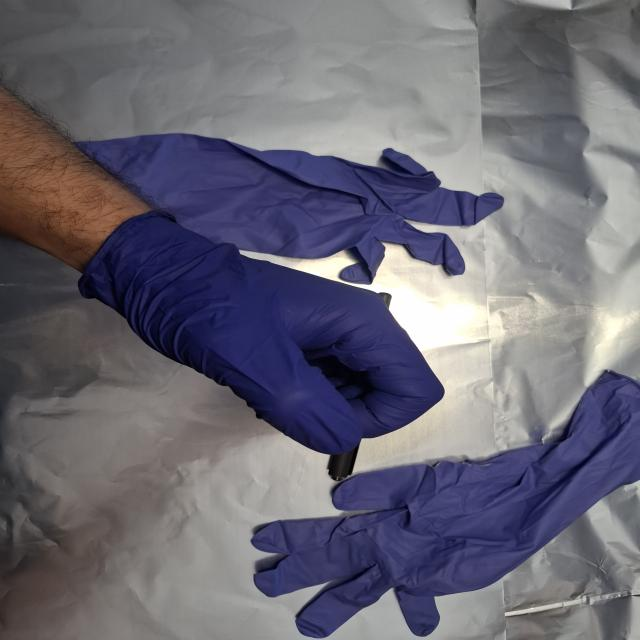glove_on: (76, 208, 450, 457)
